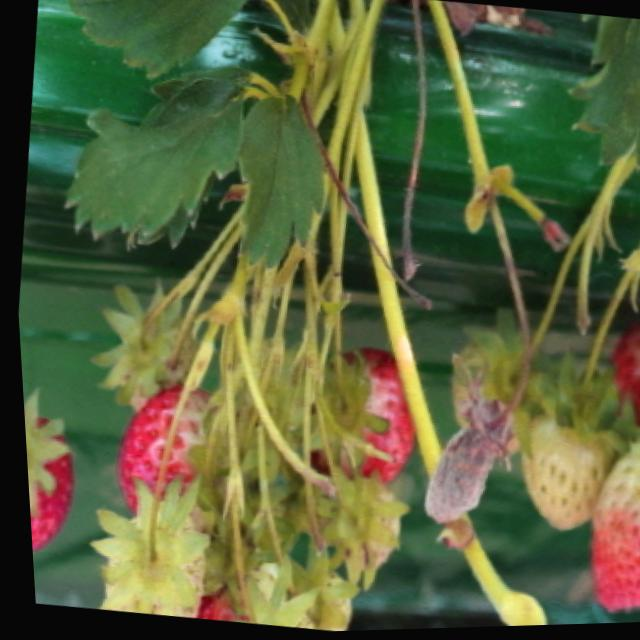Gray Mold: (416, 393, 513, 525)
